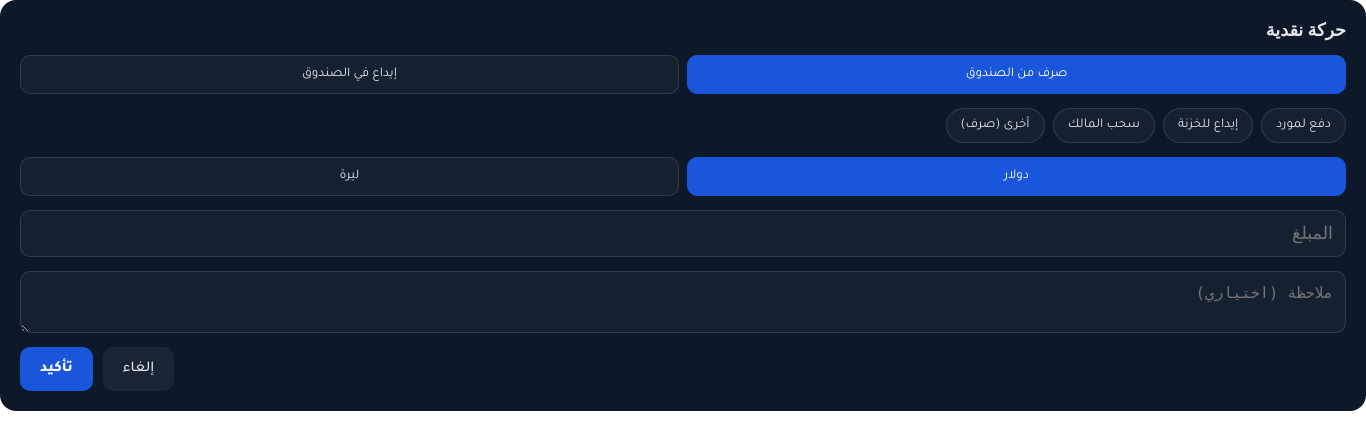
Test: RecordCashMovementSheet › switches category set when direction toggles to in
The width and height of the screenshot is (1366, 428).
Click the button with test id "dir-in" at (350, 74), box [20,55,679,94]
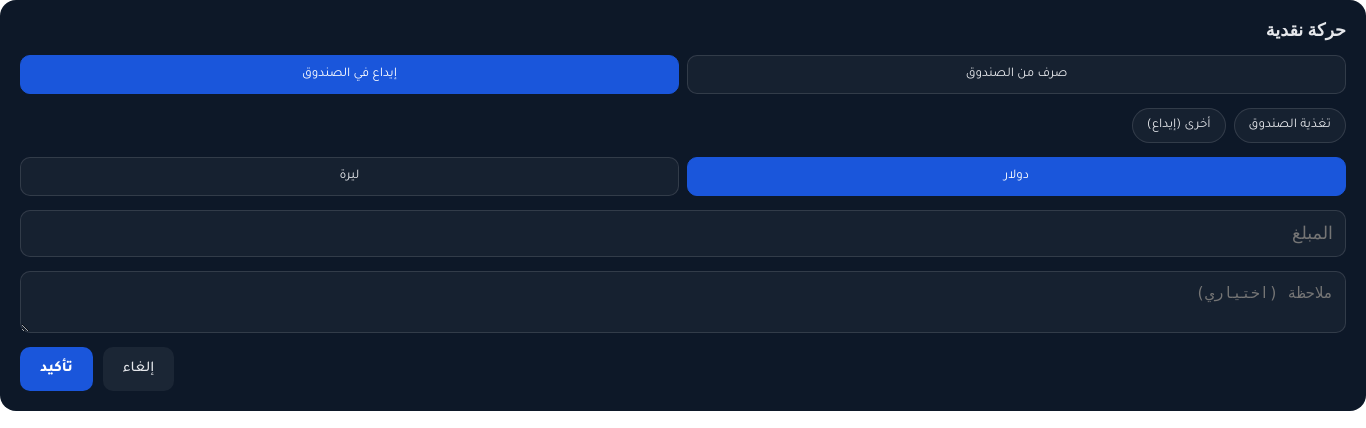
Check: the text "تغذية الصندوق" is shown, box [1234,108,1346,143]
Check: the text "دفع لمورد" is gone
